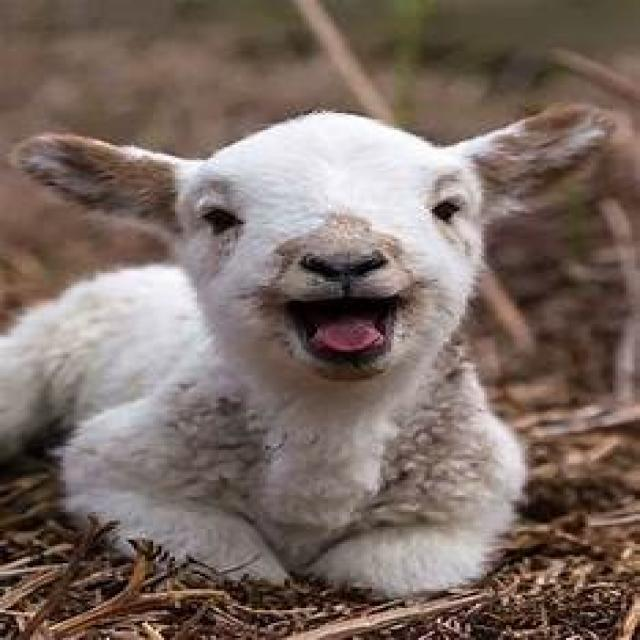goat: (0, 102, 640, 606)
